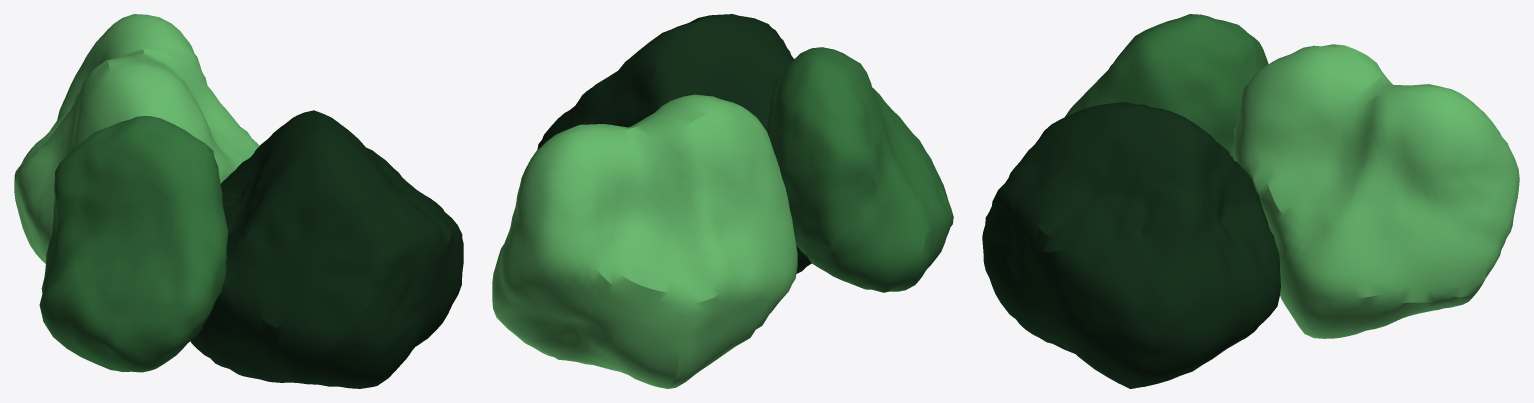
The model's file is pedras verdes.fbx.
3 views of the same model, side by side, from view 1: azimuth 30°, elevation 25°; view 2: azimuth 150°, elevation 25°; view 3: azimuth 270°, elevation 25° (orthographic). The views are drawn at different scales.
Visible parts, largest first — view 1: rock.004; view 2: rock.004; view 3: rock.004.
Boxes of the visible parts, x1,y1,x2,y2 form: rock.004: (14, 14, 463, 388); rock.004: (492, 14, 953, 388); rock.004: (982, 14, 1519, 388).
Bounding box in the file's own units: 187 × 121 × 220.
